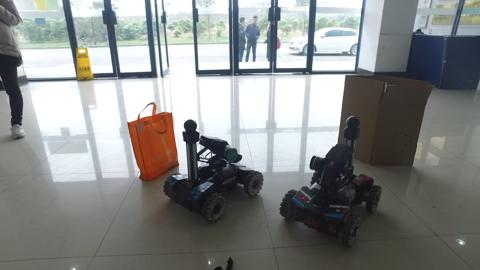bag: (124, 105, 179, 178)
box: (361, 70, 425, 163)
chariot: (280, 117, 381, 243), (173, 117, 261, 220)
